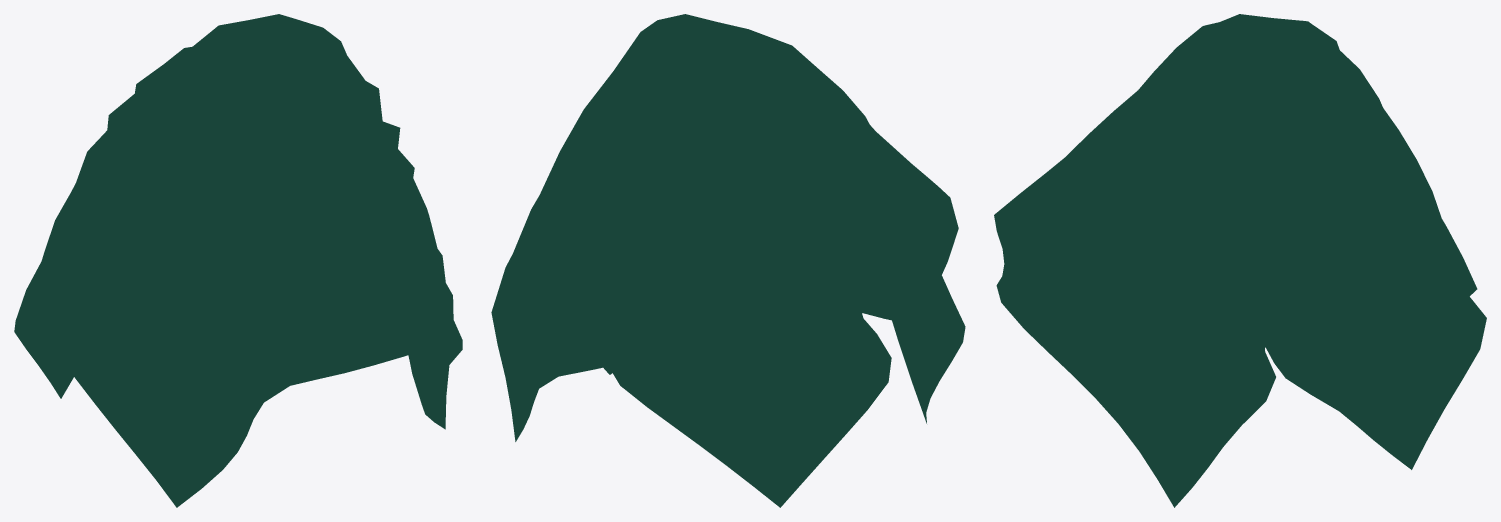
File: panz_opt.glb
3 views of the same model, side by side, from view 1: azimuth 30°, elevation 25°; view 2: azimuth 150°, elevation 25°; view 3: azimuth 270°, elevation 25° (orthographic). The views are drawn at different scales.
Visible parts, largest first — view 1: Plane.001; view 2: Plane.001; view 3: Plane.001.
Part boxes in pixels (box(x1,y1,x2,y2)): Plane.001: box(14, 14, 462, 507); Plane.001: box(491, 14, 965, 507); Plane.001: box(994, 14, 1486, 507).
Bounding box in the file's own units: 2.23 × 2.1 × 2.28.
